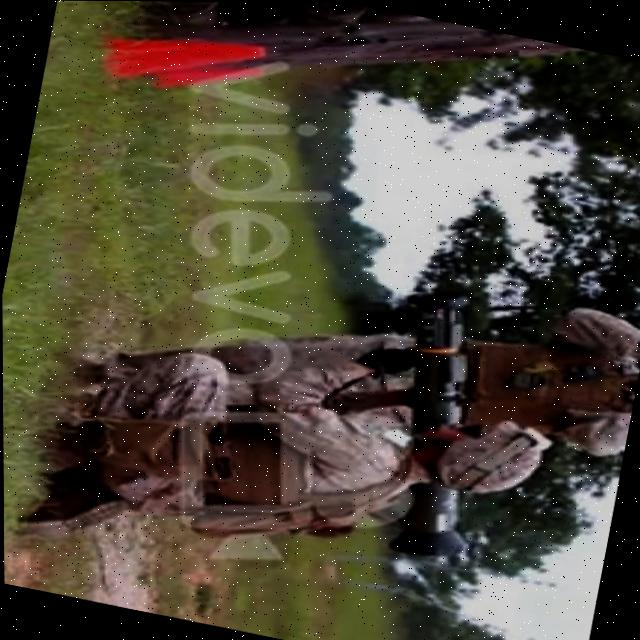rocket: (332, 274, 520, 570)
